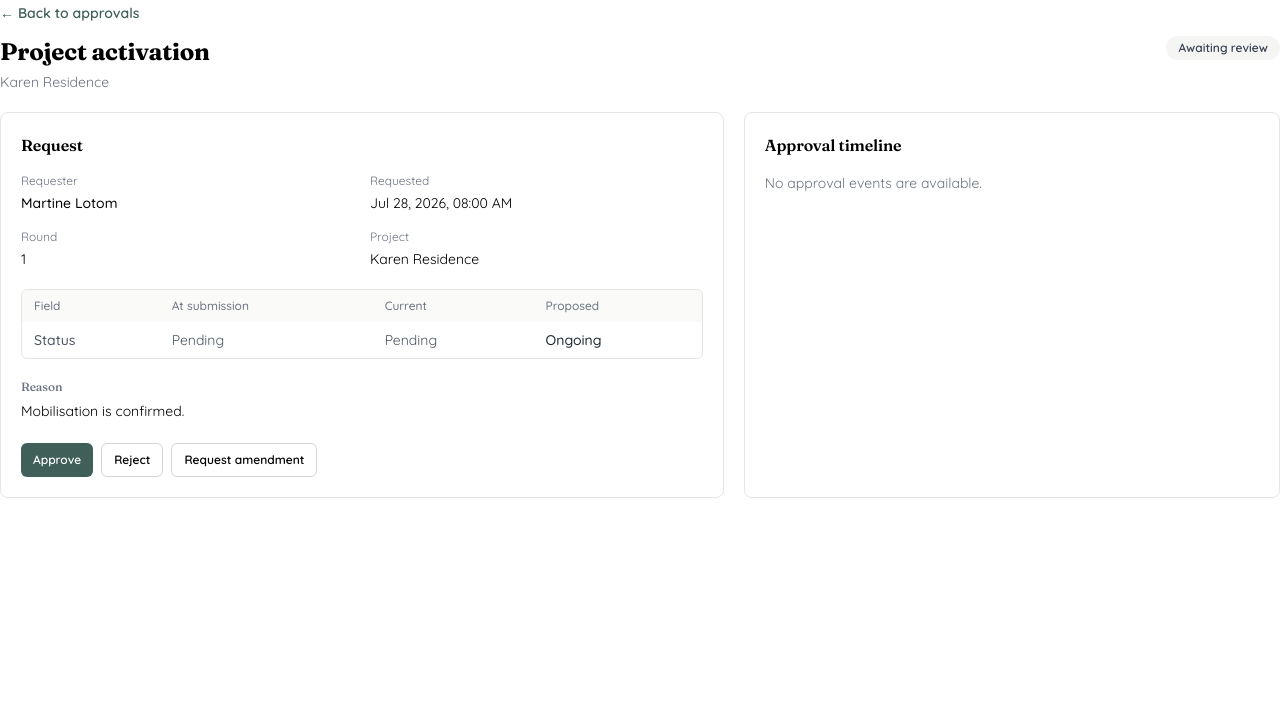
it: Admin approval detail › prevents duplicate decision submission while one request is in flight
Click the button "Approve".
click(57, 460)  # box top-left (21, 443), bottom-right (93, 477)
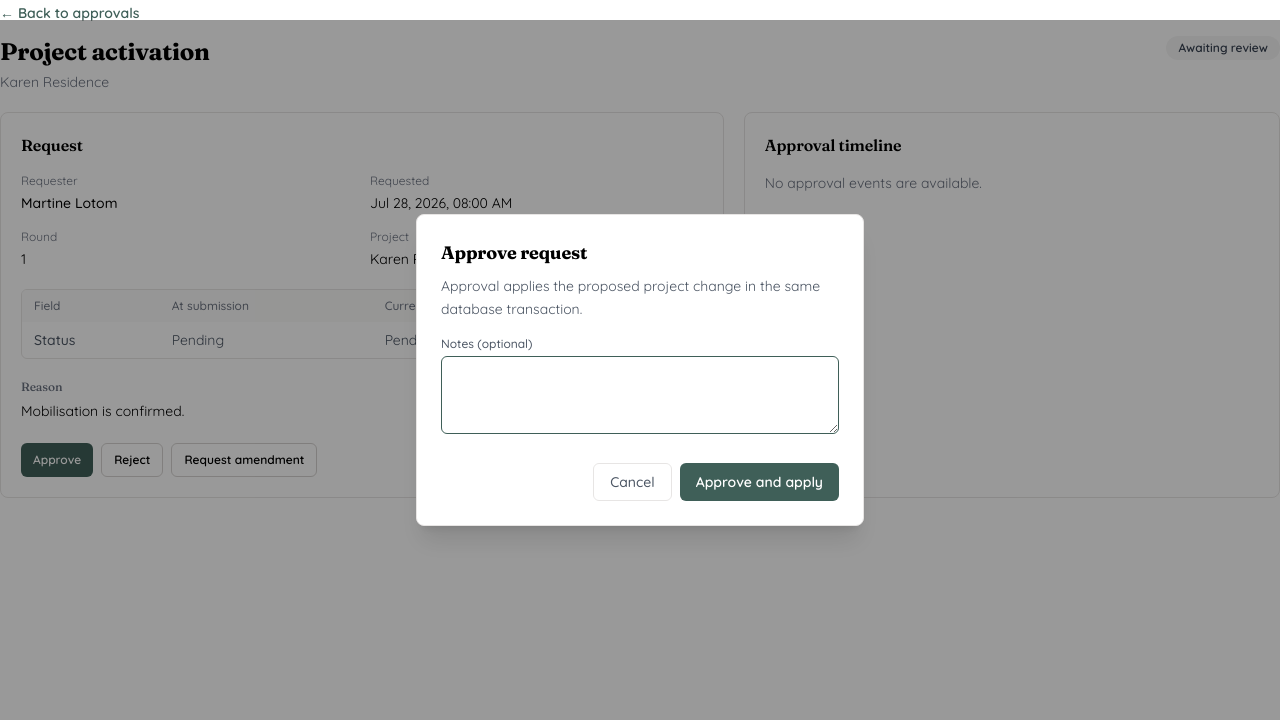
Click the button "Approve and apply".
click(759, 482)  # box top-left (680, 463), bottom-right (839, 501)
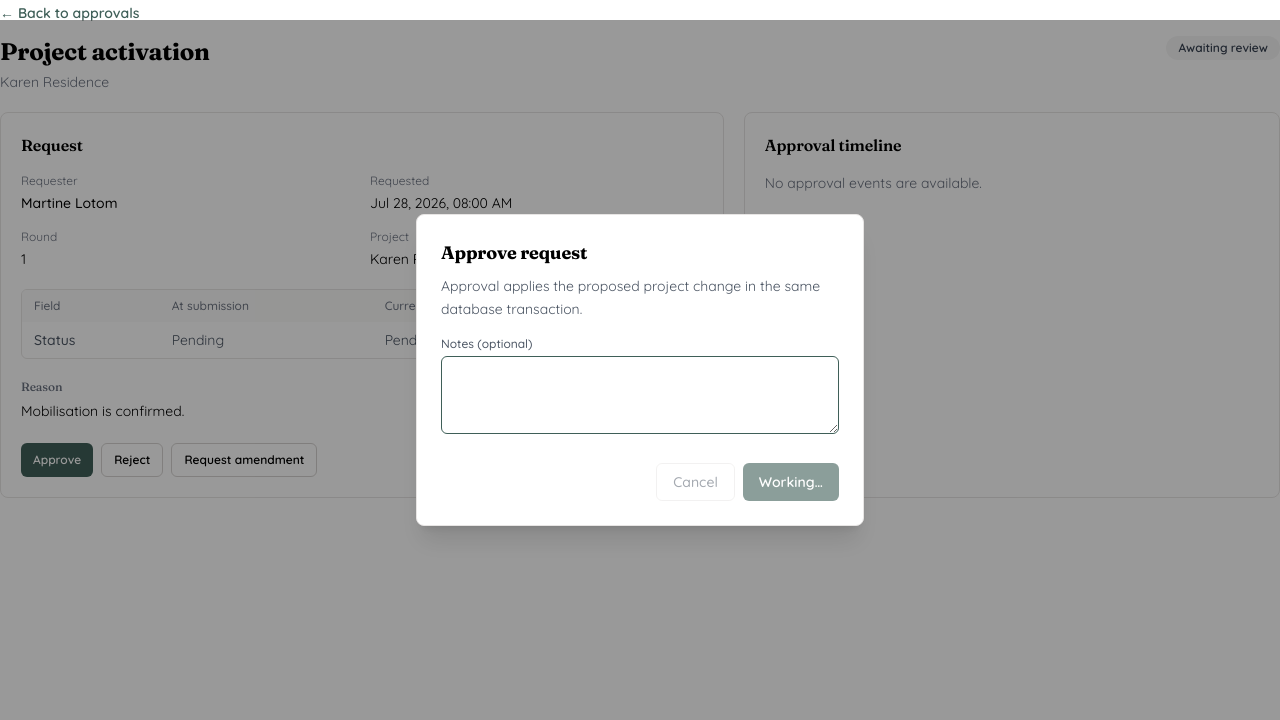
Click the button named "Approve and apply".
click(791, 482)  # box top-left (743, 463), bottom-right (839, 501)
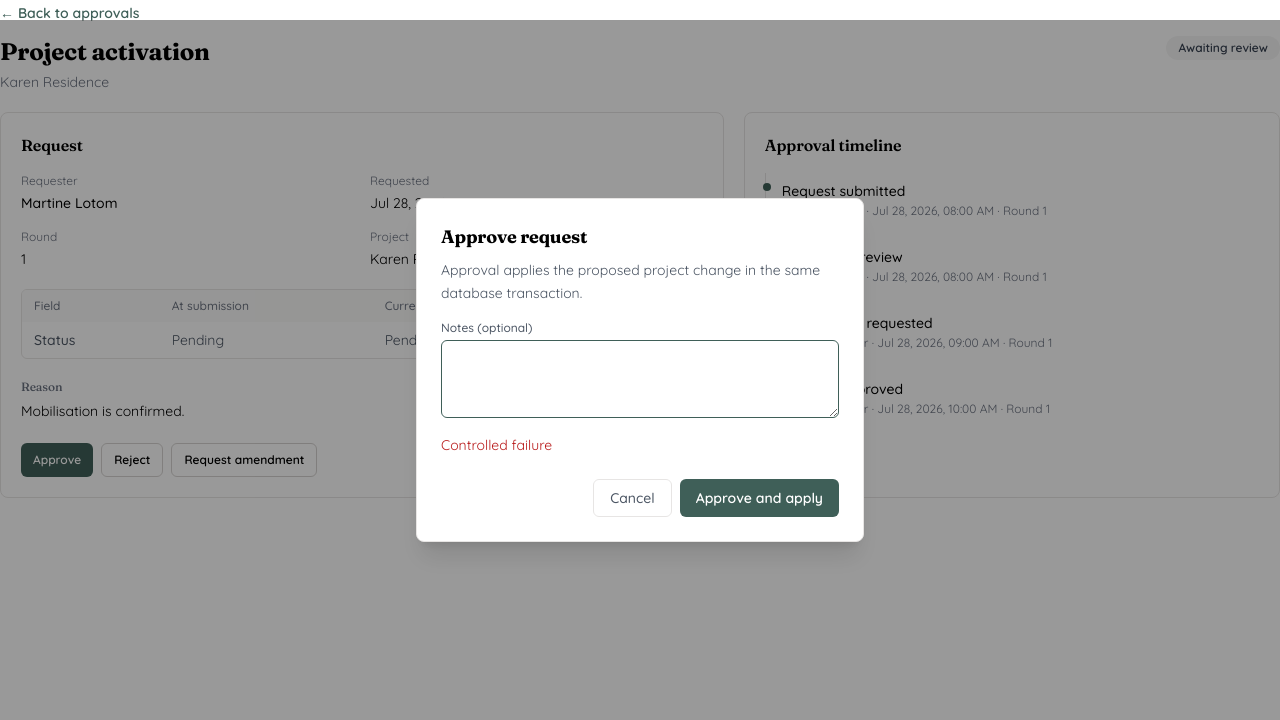
Result: the message reads "Controlled failure" at top-left (441, 436), bottom-right (552, 454)
Result: the button "Approve and apply" is enabled at top-left (680, 479), bottom-right (839, 517)
